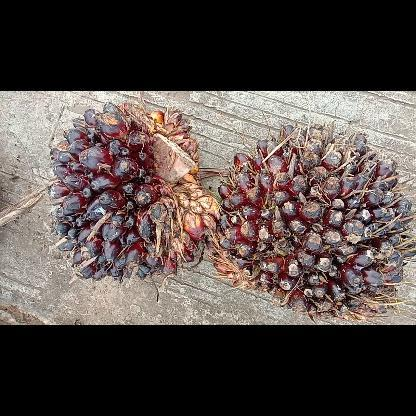TBS mentah: (207, 122, 415, 318), (43, 100, 222, 282)
